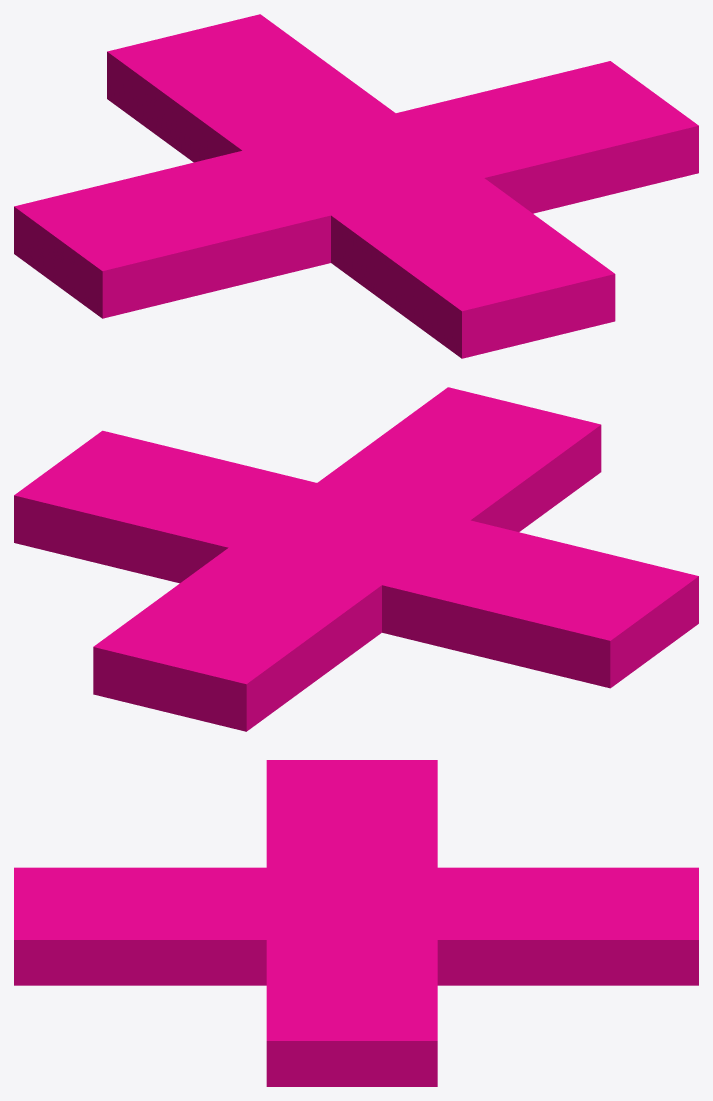
The picture shows the model from 3 angles, top to bottom: view 1: azimuth 30°, elevation 25°; view 2: azimuth 150°, elevation 25°; view 3: azimuth 270°, elevation 25°; orthographic projection. The views are drawn at different scales.
Visible parts, largest first — view 1: plus; view 2: plus; view 3: plus.
Boxes of the visible parts, x1=… form: plus: x1=14, y1=14, x2=698, y2=358; plus: x1=14, y1=387, x2=698, y2=731; plus: x1=14, y1=760, x2=698, y2=1086.
Bounding box in the file's own units: 21.01 × 1.6 × 21.65.
